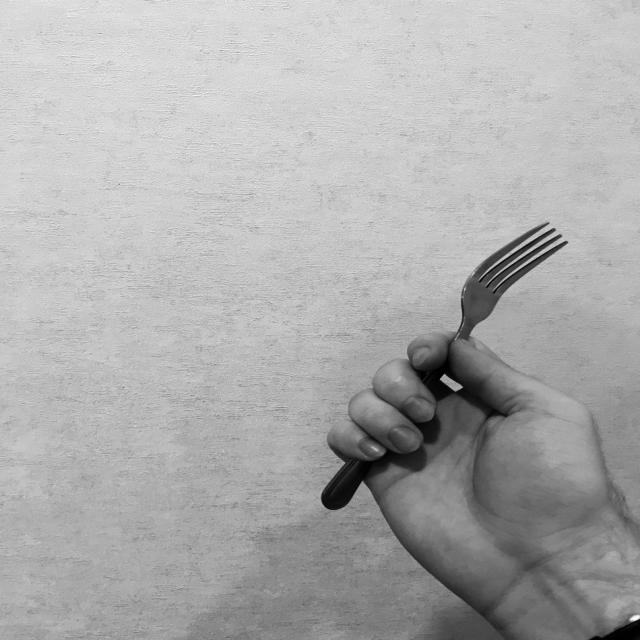fork: (318, 222, 568, 512)
